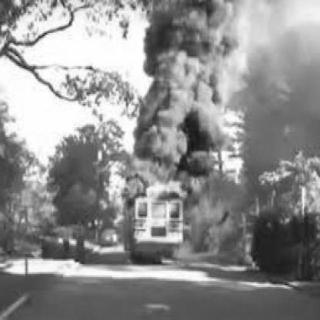Smoke: (123, 7, 275, 157)
